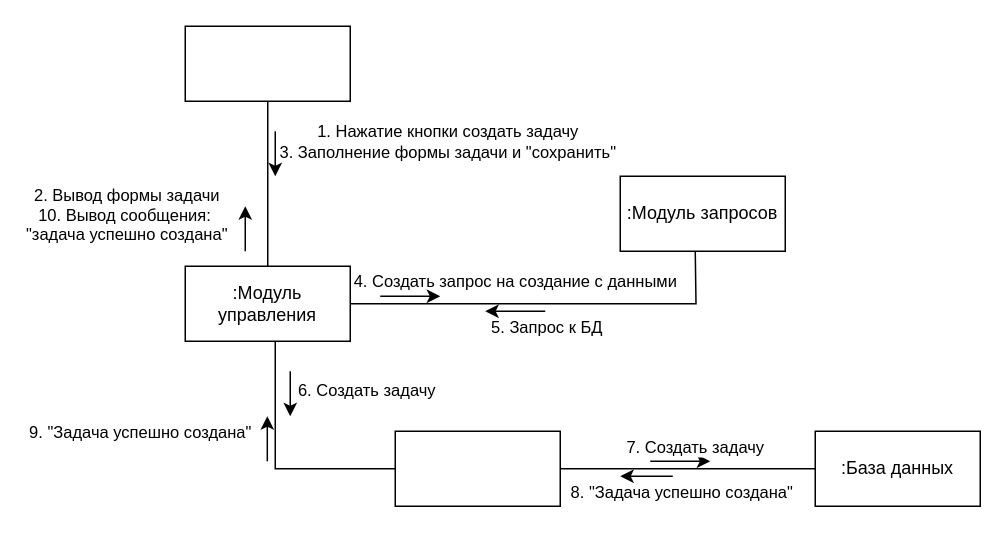
Some shapes in this 1007 by 533 pixel diagram are drawn without their labels. Each missing label, with the box of its shape:
:API: (394, 430, 560, 506)
:Интерфейс: (184, 25, 350, 101)
